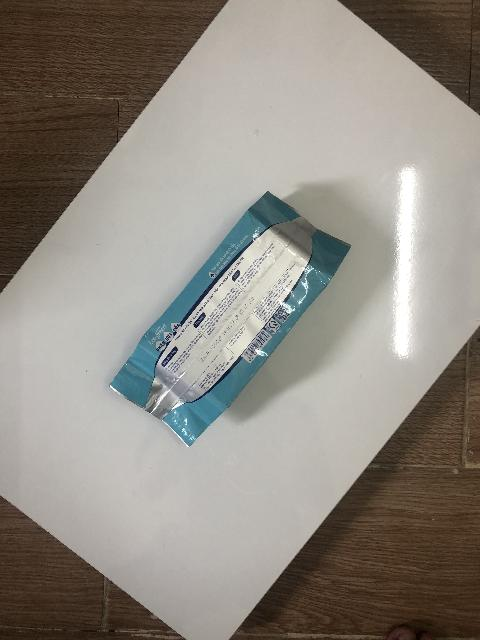Let-green_alcohol_wipes: (109, 192, 352, 449)
